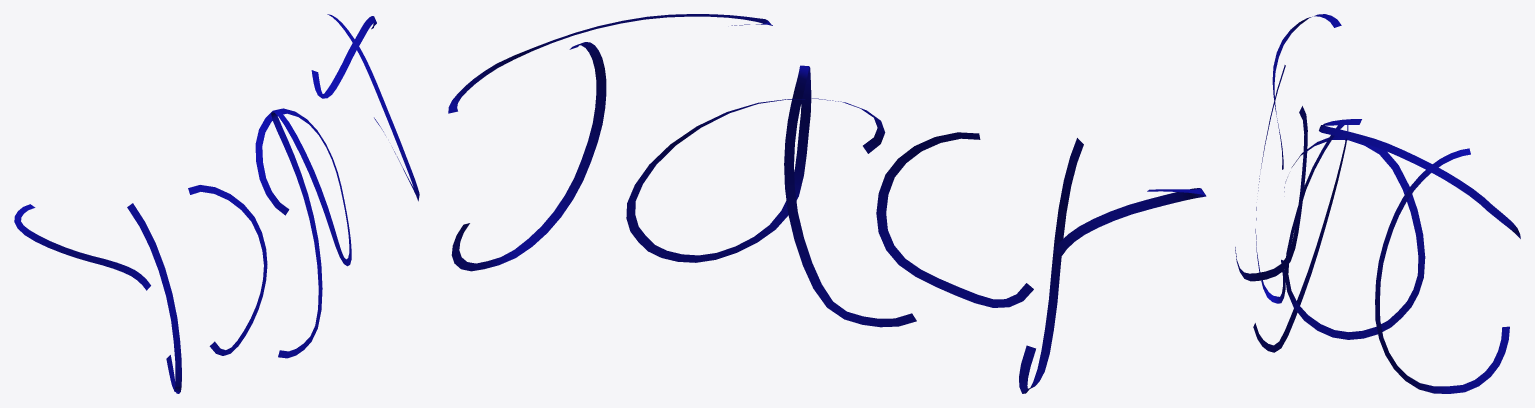
Rendered from VRJack.gltf.
3 renders of one model, left to right at view 1: azimuth 30°, elevation 25°; view 2: azimuth 150°, elevation 25°; view 3: azimuth 270°, elevation 25°, orthographic. The views are drawn at different scales.
Parts seen in each view (by area): view 1: brush_Flat_g0_b0; view 2: brush_Flat_g0_b0; view 3: brush_Flat_g0_b0.
Part boxes in pixels (<box>): brush_Flat_g0_b0: <box>14,14,419,393</box>; brush_Flat_g0_b0: <box>448,14,1206,393</box>; brush_Flat_g0_b0: <box>1235,14,1520,393</box>.
Bounding box in the file's own units: 0.8173 × 0.4348 × 0.3987.
